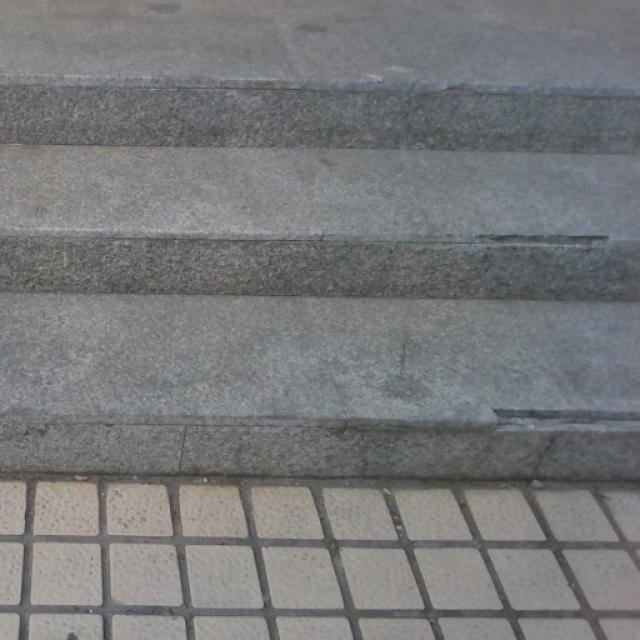Stairs: (0, 72, 639, 482)
